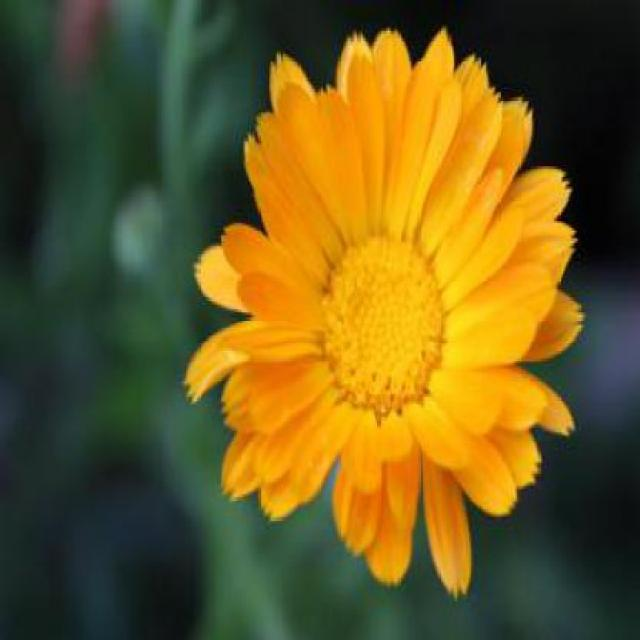Flower: (179, 20, 587, 602), (322, 238, 444, 415)
